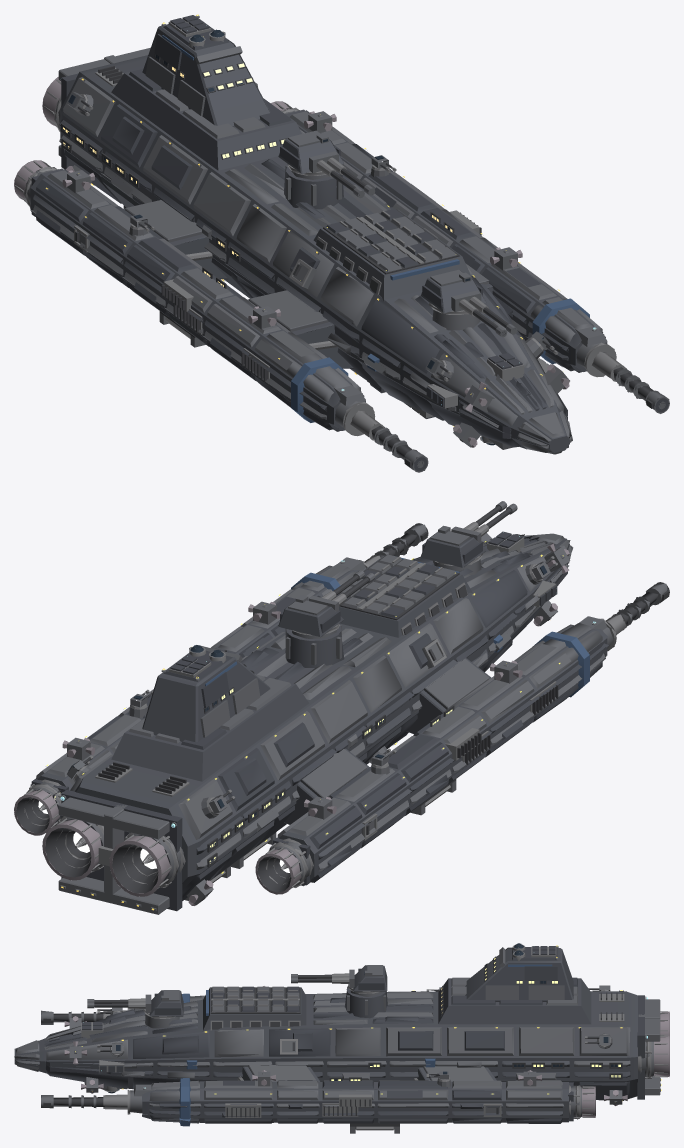
Rendered from assault_frigate_lod.glb.
3 renders of one model, top to bottom at view 1: azimuth 30°, elevation 25°; view 2: azimuth 150°, elevation 25°; view 3: azimuth 270°, elevation 25°, orthographic. The views are drawn at different scales.
Parts seen in each view (by area): view 1: assault_frigate; view 2: assault_frigate; view 3: assault_frigate.
Part boxes in pixels (box(x1,y1,x2,y2)): assault_frigate: box(14, 14, 669, 472); assault_frigate: box(14, 501, 669, 914); assault_frigate: box(14, 943, 669, 1133).
Size of the model in its own units: 17.9 by 12.7 by 47.36.
